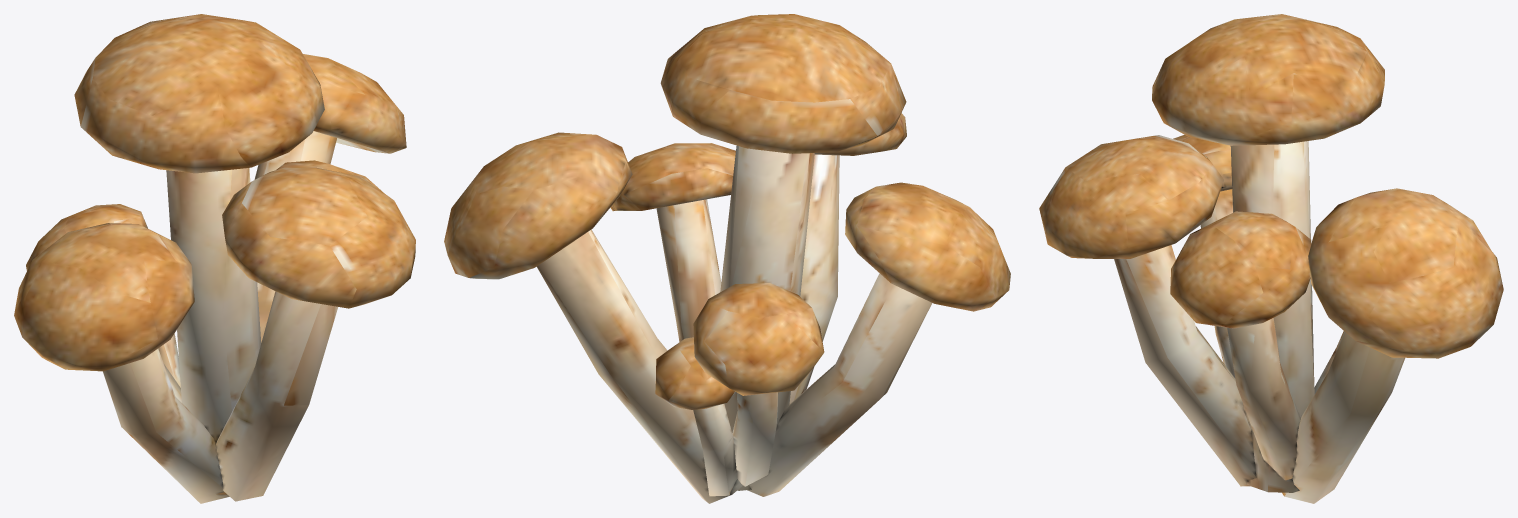
Rendered from BeechMushroom.fbx.
3 views of the same model, side by side, from view 1: azimuth 30°, elevation 25°; view 2: azimuth 150°, elevation 25°; view 3: azimuth 270°, elevation 25° (orthographic). The views are drawn at different scales.
Parts seen in each view (by area): view 1: Sphere.001; view 2: Sphere.001; view 3: Sphere.001.
Boxes of the visible parts, bbox=[...] form: Sphere.001: bbox=[14, 14, 415, 503]; Sphere.001: bbox=[444, 14, 1010, 503]; Sphere.001: bbox=[1039, 14, 1503, 503].
Bounding box in the file's own units: 45.22 × 44.62 × 41.9.
Materials: 1 (1 with a texture image).
